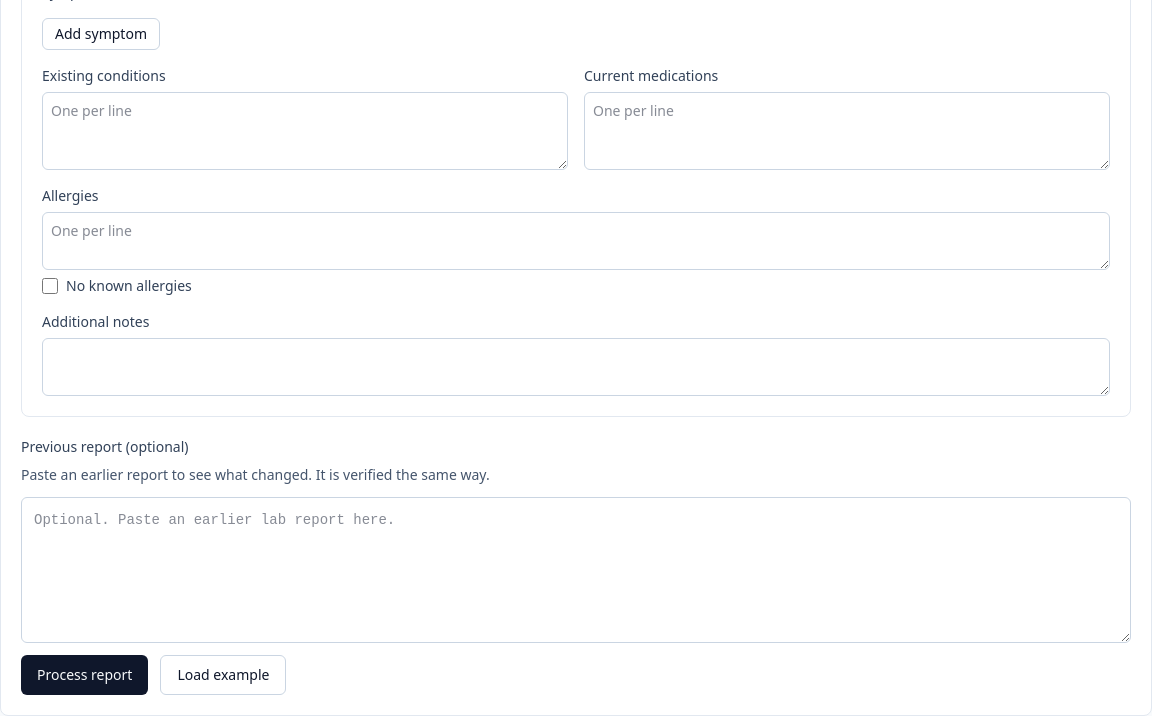
Test: ReportAnalyzer — summary rendering › explains the absence when no summary was generated
The image size is (1152, 716).
(page scrolled)
Step 1. Click the button "Load example" → (223, 675), box [160,655,286,695]
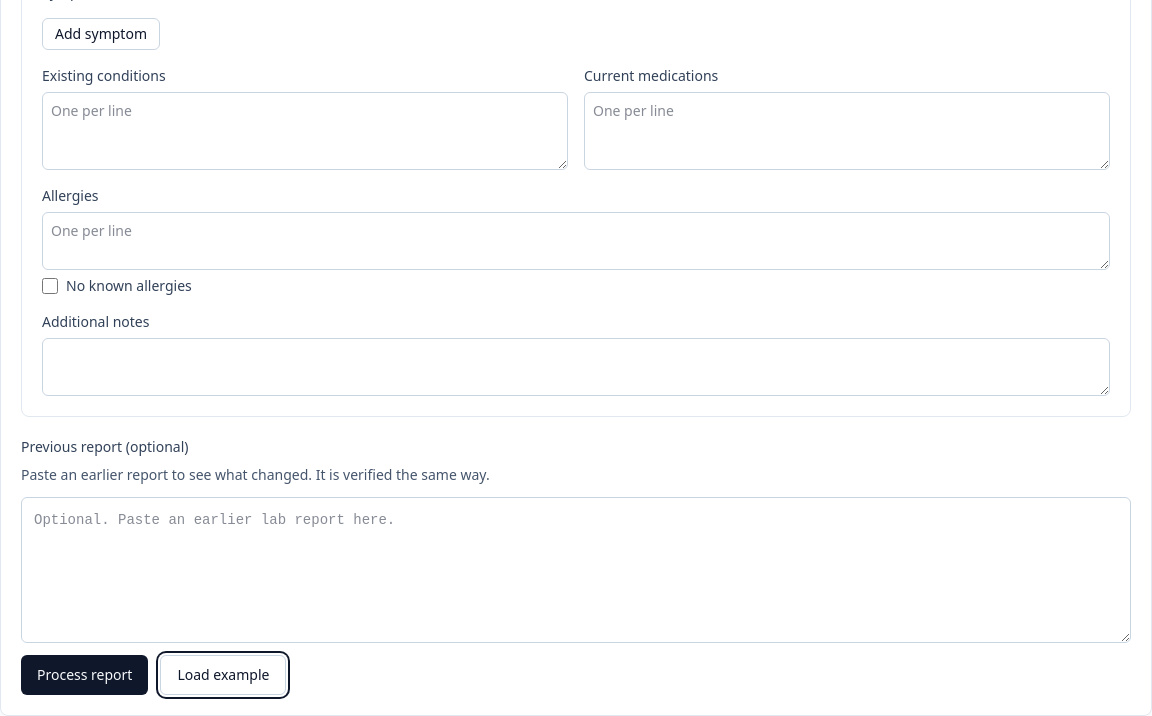
Step 2. Click the button "Process report" → (85, 675), box [21,655,148,695]
(page scrolled)
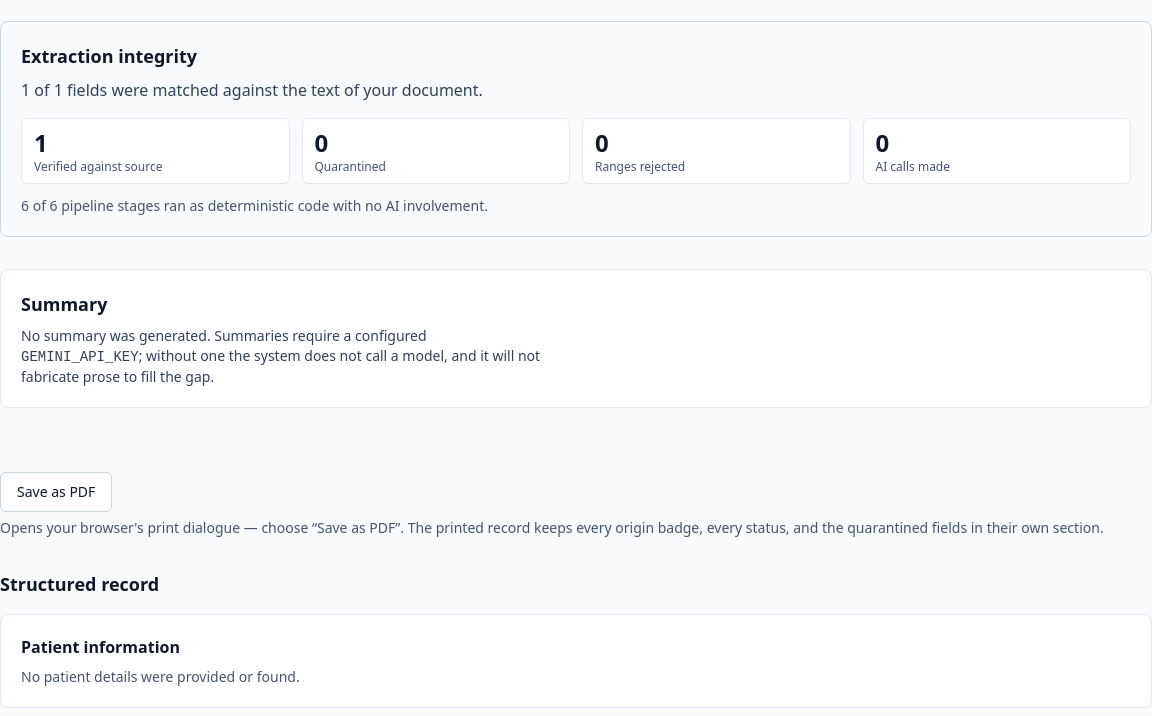
Now the text "No summary was generated" is shown, box [21,326,427,345]
